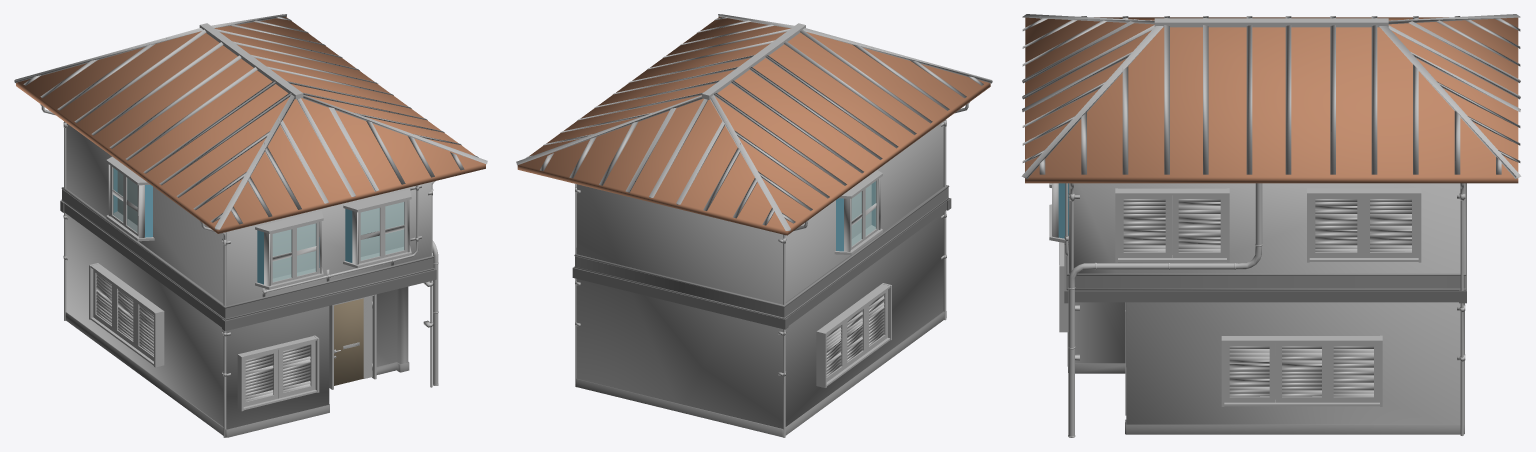
Rendered from house_residential_building_02.fbx.
The picture shows the model from 3 angles, left to right: view 1: azimuth 30°, elevation 25°; view 2: azimuth 150°, elevation 25°; view 3: azimuth 270°, elevation 25°; orthographic projection. The views are drawn at different scales.
Parts seen in each view (by area): view 1: Box563.002; view 2: Box563.002; view 3: Box563.002.
Part boxes in pixels (x1,y1,x2,y2): Box563.002: [14, 14, 487, 437]; Box563.002: [516, 14, 992, 437]; Box563.002: [1021, 14, 1521, 437].
Size of the model in its own units: 780 by 797 by 1013.
